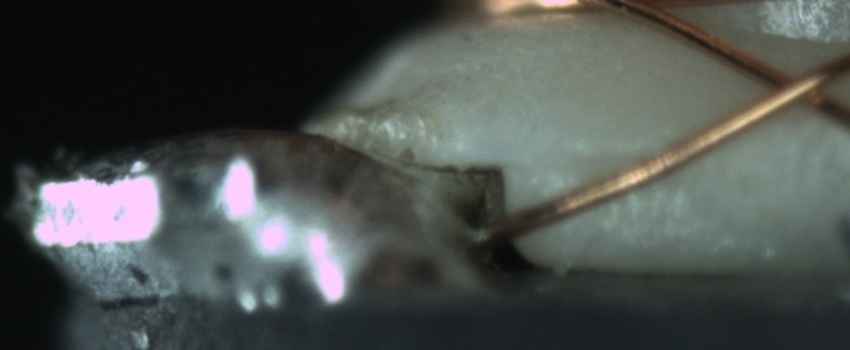CL: (740, 51, 845, 122)
DL: (542, 125, 675, 184)
